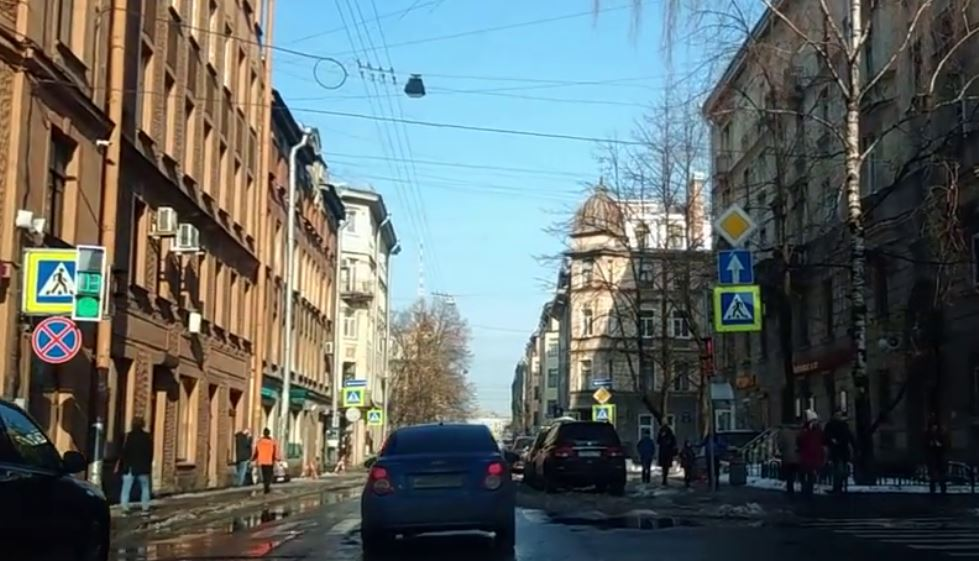Yaya Gecidi: (33, 261, 76, 303), (720, 290, 756, 328)
